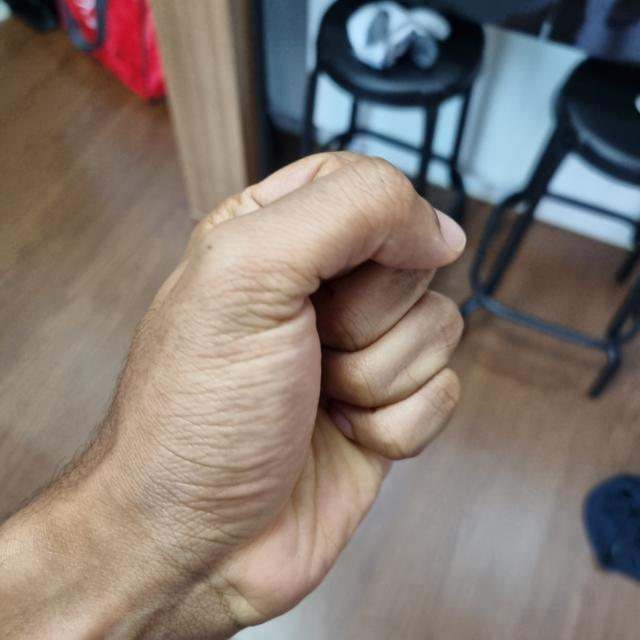Rock: (90, 0, 466, 620)
